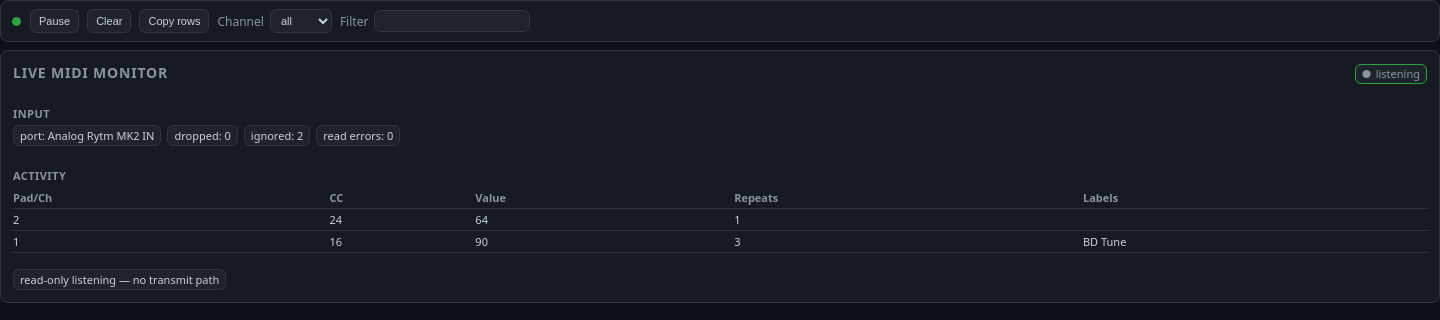
Test: LiveMidiMonitorPanel (interactive) › filters by channel and text through the labelled controls
Select "pad 2" in the dropdown with test id "monitor-channel-filter" at (301, 21), box [270,9,332,33]
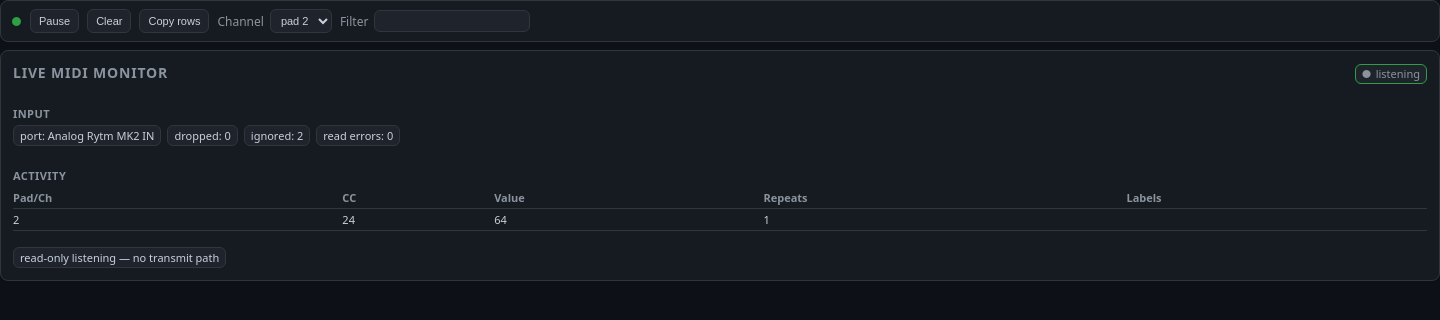
Expected: the cell "24" is shown, [342,208,494,230]
Expected: the cell "BD Tune" is gone
Type "no-match" into the field with test id "monitor-text-filter".
click(452, 21); type("no-match")  # box [374,10,530,32]
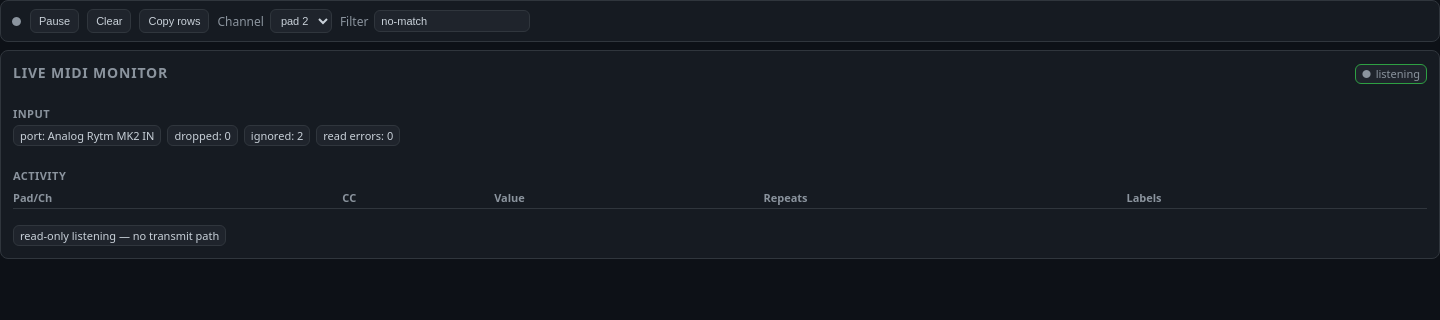
Expected: the cell "24" is gone
